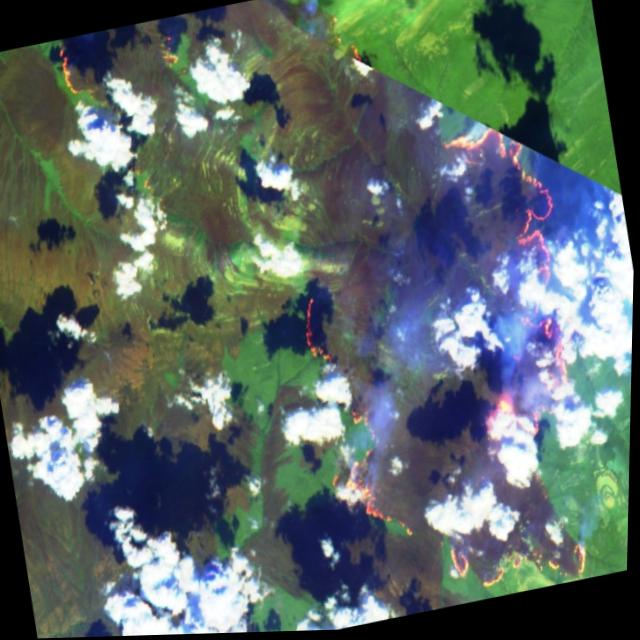fire: (265, 105, 619, 632), (45, 35, 100, 107), (154, 28, 193, 78)
